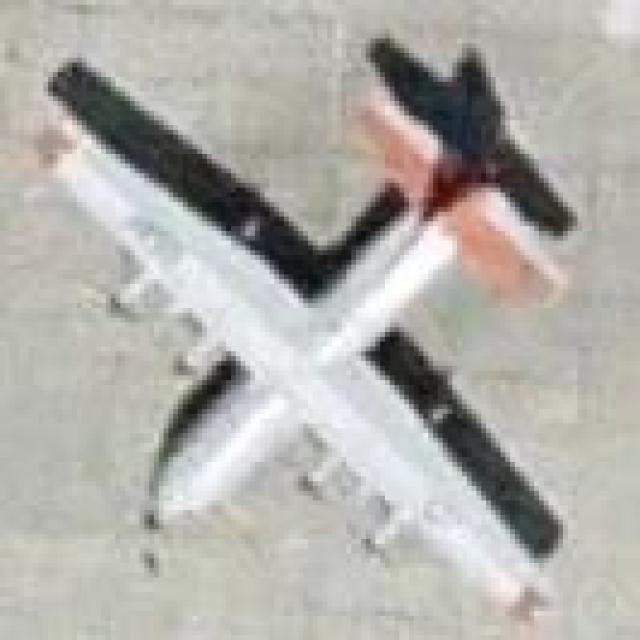C-130_TopDown: (33, 32, 586, 633)
